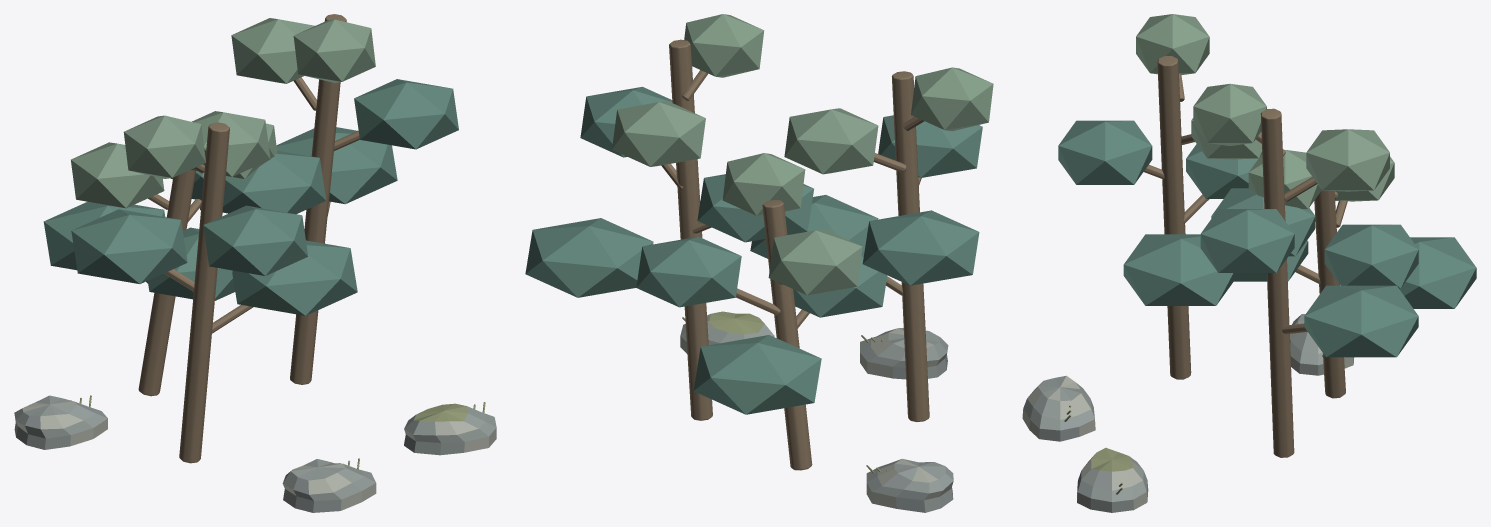
The model's file is CoastalPineStand.glb.
3 views of the same model, side by side, from view 1: azimuth 30°, elevation 25°; view 2: azimuth 150°, elevation 25°; view 3: azimuth 270°, elevation 25° (orthographic). The views are drawn at different scales.
Visible parts, largest first — view 1: Weather bent trunk, Wind flattened crown.001, Wind flattened crown, Wind flattened crown.007, Wind flattened crown.002, Wind flattened crown.006, Weather bent trunk.001, Wind flattened crown.009, Wind flattened crown.004, Wind flattened crown.005, Wind flattened crown.013, Mossed ground stone.001 (+7 smaller); view 2: Wind flattened crown.010, Wind flattened crown.005, Wind flattened crown.001, Weather bent trunk, Wind flattened crown.012, Weather bent trunk.001, Wind flattened crown.003, Wind flattened crown.013, Wind flattened crown.008, Wind flattened crown.004, Wind flattened crown.009, Wind flattened crown.014 (+9 smaller); view 3: Wind flattened crown.005, Weather bent trunk.001, Wind flattened crown, Weather bent trunk, Wind flattened crown.002, Wind flattened crown.007, Wind flattened crown.012, Wind flattened crown.008, Wind flattened crown.010, Wind flattened crown.009, Mossed ground stone.002, Mossed ground stone.001 (+9 smaller).
Boxes of the visible parts, x1,y1,x2,y2 form: Weather bent trunk: (179, 122, 229, 463); Wind flattened crown.001: (71, 209, 187, 283); Wind flattened crown: (232, 240, 357, 315); Wind flattened crown.007: (354, 79, 458, 149); Wind flattened crown.002: (203, 205, 307, 275); Wind flattened crown.006: (222, 150, 326, 214); Weather bent trunk.001: (290, 14, 346, 384); Wind flattened crown.009: (293, 19, 375, 82); Wind flattened crown.004: (123, 115, 205, 178); Wind flattened crown.005: (276, 127, 397, 204); Wind flattened crown.013: (71, 142, 164, 208); Mossed ground stone.001: (404, 403, 496, 455); Wind flattened crown.010: (693, 335, 821, 414); Wind flattened crown.005: (525, 218, 653, 297); Wind flattened crown.001: (862, 210, 979, 285); Weather bent trunk: (892, 71, 929, 421); Wind flattened crown.012: (636, 236, 741, 307); Weather bent trunk.001: (669, 39, 712, 420); Wind flattened crown.003: (784, 108, 878, 174); Wind flattened crown.013: (768, 229, 862, 295); Wind flattened crown.008: (612, 101, 705, 166); Wind flattened crown.004: (911, 67, 993, 131); Wind flattened crown.009: (684, 14, 764, 77); Wind flattened crown.014: (722, 153, 805, 216); Wind flattened crown.005: (1304, 285, 1418, 357); Weather bent trunk.001: (1260, 108, 1294, 457); Wind flattened crown: (1123, 234, 1237, 305); Weather bent trunk: (1157, 56, 1191, 379); Wind flattened crown.002: (1058, 120, 1152, 184); Wind flattened crown.007: (1200, 209, 1294, 272); Wind flattened crown.012: (1324, 224, 1418, 288); Wind flattened crown.008: (1306, 129, 1389, 191); Wind flattened crown.010: (1399, 237, 1476, 308); Wind flattened crown.009: (1193, 83, 1266, 145); Mossed ground stone.002: (1022, 375, 1095, 441); Mossed ground stone.001: (1077, 447, 1148, 512).
Bounding box in the file's own units: 5.23 × 4.91 × 5.28.
